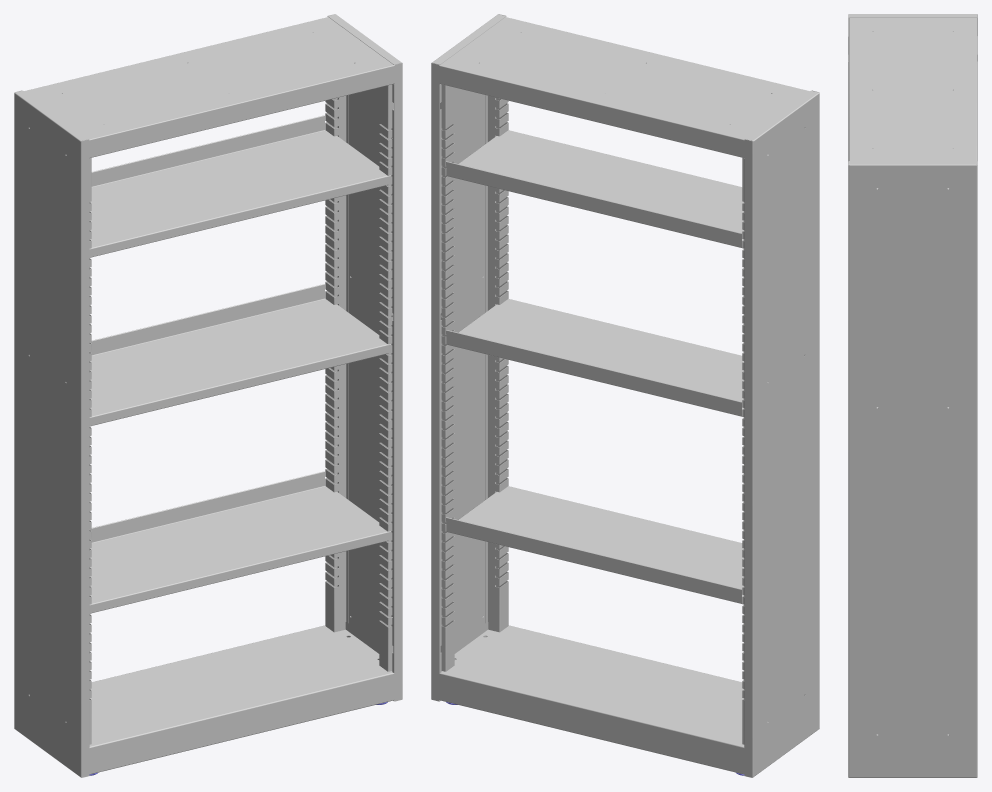
3 views of the same model, side by side, from view 1: azimuth 30°, elevation 25°; view 2: azimuth 150°, elevation 25°; view 3: azimuth 270°, elevation 25° (orthographic). The views are drawn at different scales.
Parts seen in each view (by area): view 1: aa08357c-11ca-474d-a680-7ca8774d25c8, dc22ca7c-ff02-4354-bd39-e212060cb0d3; view 2: aa08357c-11ca-474d-a680-7ca8774d25c8, dc22ca7c-ff02-4354-bd39-e212060cb0d3; view 3: aa08357c-11ca-474d-a680-7ca8774d25c8.
Boxes of the visible parts, bbox=[...] form: aa08357c-11ca-474d-a680-7ca8774d25c8: bbox=[14, 14, 402, 777]; dc22ca7c-ff02-4354-bd39-e212060cb0d3: bbox=[66, 115, 390, 613]; aa08357c-11ca-474d-a680-7ca8774d25c8: bbox=[431, 14, 819, 777]; dc22ca7c-ff02-4354-bd39-e212060cb0d3: bbox=[446, 130, 768, 603]; aa08357c-11ca-474d-a680-7ca8774d25c8: bbox=[848, 14, 977, 777].
Bounding box in the file's own units: 0.8994 × 1.71 × 0.3245.
Materials: 2 (1 with a texture image).
